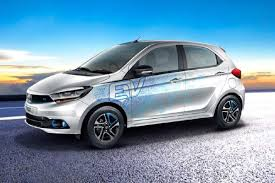Tiago: (21, 38, 246, 152)
